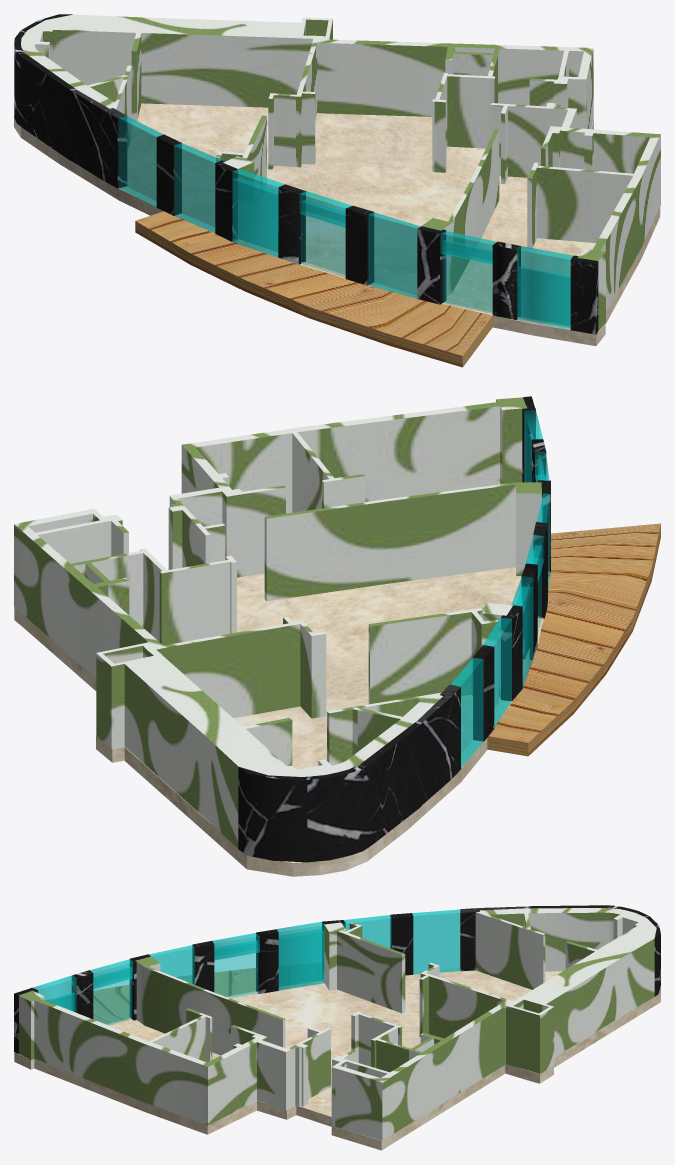
Rendered from unit3.fbx.
3 renders of one model, top to bottom at view 1: azimuth 30°, elevation 25°; view 2: azimuth 150°, elevation 25°; view 3: azimuth 270°, elevation 25°, orthographic. The views are drawn at different scales.
Parts seen in each view (by area): view 1: polySurface1, pCube1, polySurface2, polySurface14, pCube6, polySurface20, polySurface19; view 2: polySurface1, polySurface2, pCube1, pCube6, polySurface14; view 3: polySurface1, pCube1, polySurface14, polySurface2, pCube6, polySurface19, polySurface20.
Part boxes in pixels (x1,y1,x2,y2): polySurface1: (21, 14, 660, 330); pCube1: (14, 103, 660, 346); polySurface2: (14, 14, 598, 334); polySurface14: (118, 116, 573, 329); pCube6: (135, 211, 492, 367); polySurface20: (443, 254, 492, 313); polySurface19: (301, 214, 345, 276); polySurface1: (14, 397, 541, 848); polySurface2: (238, 396, 550, 862); pCube1: (14, 567, 549, 876); pCube6: (487, 523, 660, 756); polySurface14: (450, 410, 549, 767); polySurface1: (19, 908, 656, 1140); pCube1: (14, 968, 660, 1150); polySurface14: (32, 909, 460, 1012); polySurface2: (14, 905, 660, 1053); pCube6: (46, 968, 320, 1024); polySurface19: (214, 953, 257, 998); polySurface20: (93, 977, 131, 1025).
Bounding box in the file's own units: 11.57 × 2.02 × 17.43.
6 materials, 4 textured.
